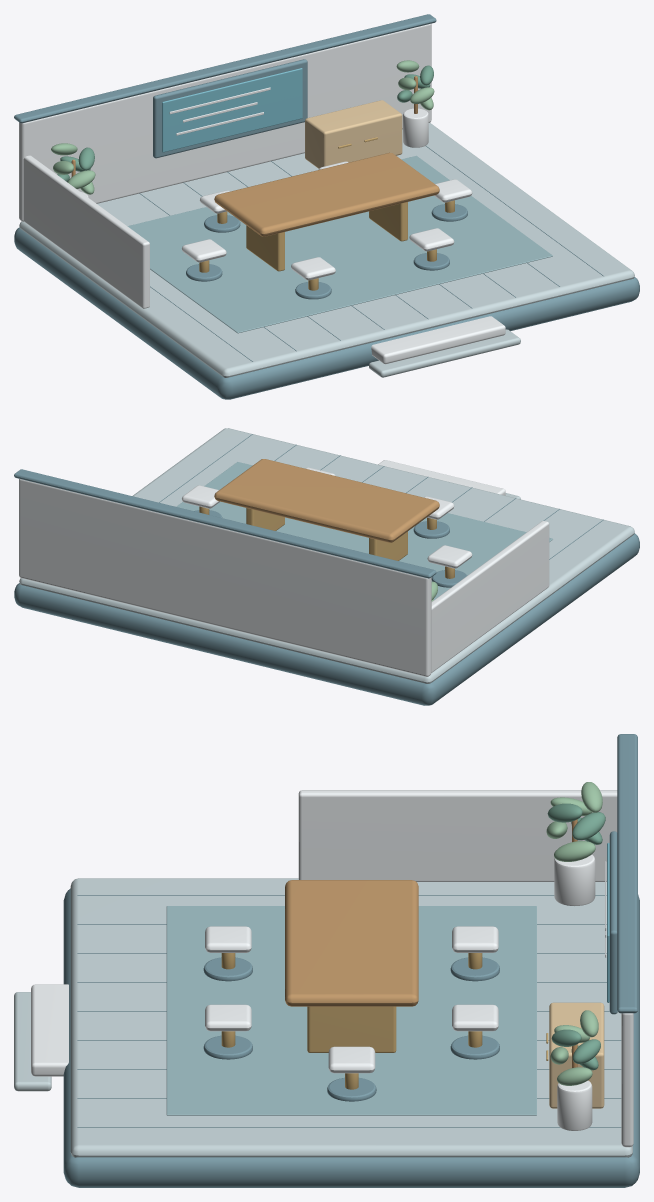
The model's file is boardroom.glb.
3 views of the same model, one above another, from view 1: azimuth 30°, elevation 25°; view 2: azimuth 150°, elevation 25°; view 3: azimuth 270°, elevation 25° (orthographic). The views are drawn at different scales.
Visible parts, largest first — view 1: Floor.001, Board_rug, Back_wall.001, Foundation.001, Board_table, Left_wall.001, Plan_display, Credenza, Back_cap.001, Entry_step.001, Plan_display_frame, Entry_step_lower.001 (+7 smaller); view 2: Back_wall.001, Floor.001, Foundation.001, Board_table, Left_wall.001, Board_rug, Back_cap.001, Entry_step.001, Table_leg, Chair, Chair.003, Table_leg.001 (+1 smaller); view 3: Floor.001, Board_rug, Left_wall.001, Foundation.001, Board_table, Back_cap.001, Table_leg.001, Entry_step.001, Credenza, Entry_step_lower.001, Planter.002, Back_wall.001 (+14 smaller).
Boxes of the visible parts, bbox=[...] form: Floor.001: bbox=[19, 123, 634, 377]; Board_rug: bbox=[127, 155, 552, 333]; Back_wall.001: bbox=[19, 23, 431, 221]; Foundation.001: bbox=[14, 227, 639, 399]; Board_table: bbox=[214, 152, 439, 236]; Left_wall.001: bbox=[23, 155, 149, 308]; Plan_display: bbox=[162, 68, 302, 152]; Credenza: bbox=[305, 100, 402, 168]; Back_cap.001: bbox=[14, 14, 436, 123]; Entry_step.001: bbox=[371, 316, 505, 364]; Plan_display_frame: bbox=[153, 59, 307, 158]; Entry_step_lower.001: bbox=[369, 329, 520, 377]; Back_wall.001: bbox=[19, 479, 431, 676]; Floor.001: bbox=[19, 428, 634, 683]; Foundation.001: bbox=[14, 533, 639, 705]; Board_table: bbox=[214, 459, 439, 542]; Left_wall.001: bbox=[431, 521, 549, 672]; Board_rug: bbox=[176, 462, 552, 599]; Back_cap.001: bbox=[14, 469, 436, 578]; Entry_step.001: bbox=[378, 460, 505, 495]; Table_leg: bbox=[369, 531, 407, 560]; Chair: bbox=[427, 545, 472, 568]; Chair.003: bbox=[182, 485, 219, 508]; Table_leg.001: bbox=[246, 508, 284, 530]; Floor.001: bbox=[70, 878, 632, 1157]; Board_rug: bbox=[166, 906, 536, 1115]; Left_wall.001: bbox=[298, 790, 617, 881]; Foundation.001: bbox=[63, 888, 639, 1187]; Board_table: bbox=[285, 880, 418, 1006]; Back_cap.001: bbox=[617, 734, 637, 1013]; Table_leg.001: bbox=[307, 1006, 396, 1052]; Entry_step.001: bbox=[31, 984, 68, 1076]; Credenza: bbox=[549, 1002, 604, 1108]; Entry_step_lower.001: bbox=[14, 992, 51, 1091]; Planter.002: bbox=[554, 854, 595, 905]; Back_wall.001: bbox=[621, 1013, 633, 1147].
Bounding box in the file's own units: 9.6 × 2.95 × 9.12.
